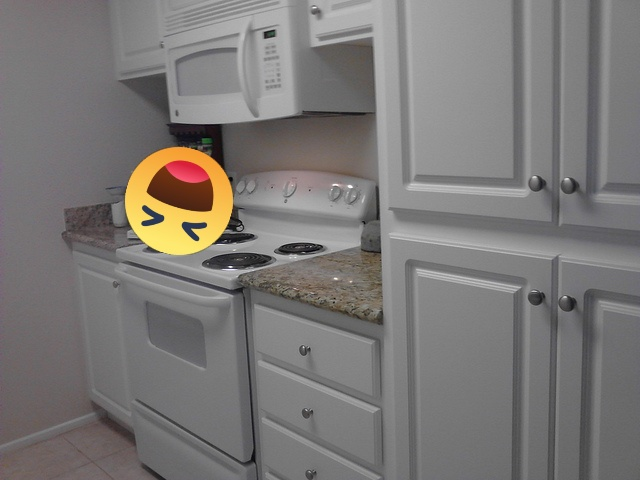haha: (125, 147, 233, 255)
